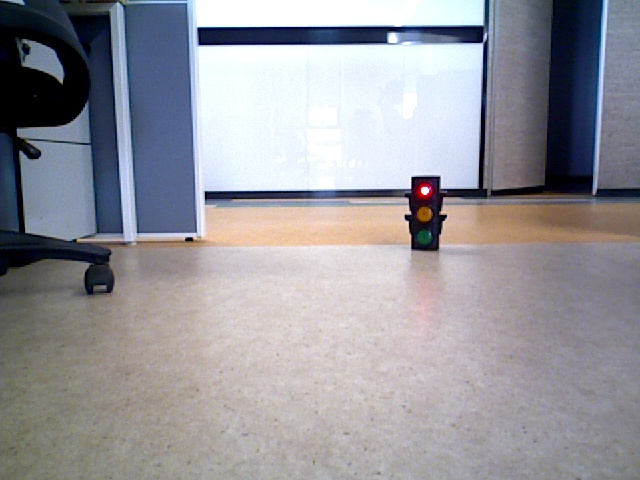red: (410, 180, 436, 246)
